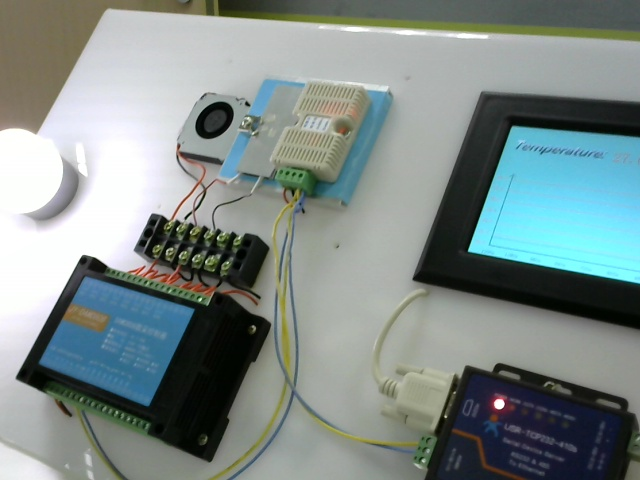relay: (13, 271, 259, 448)
